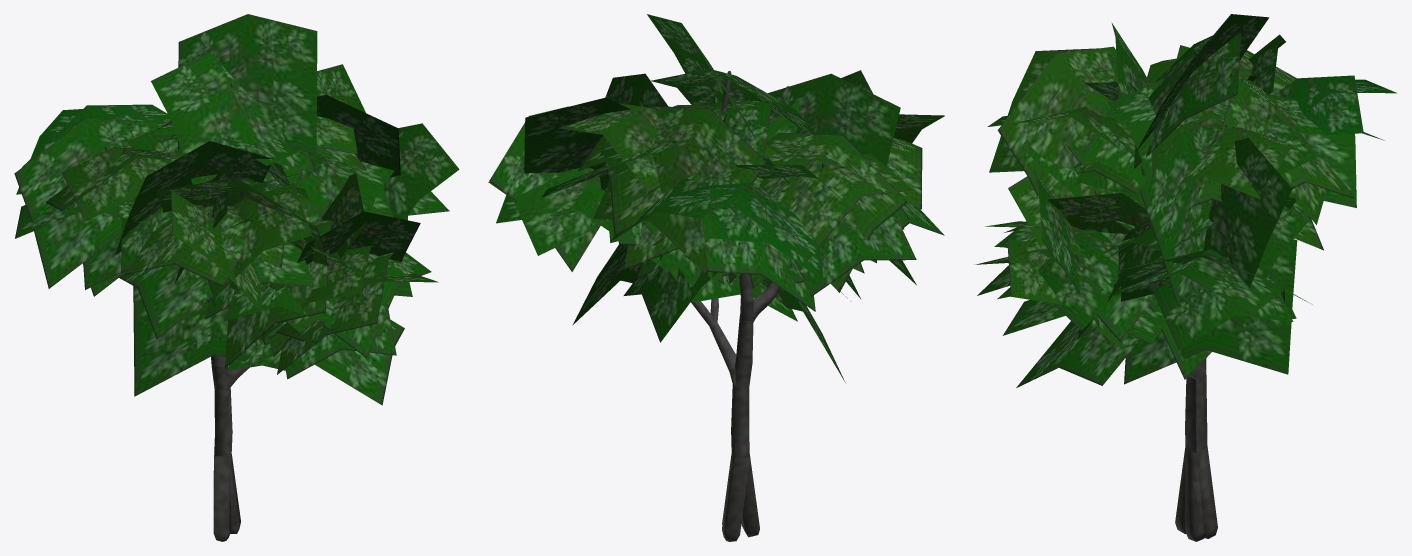
Rendered from Tree4.obj.
3 renders of one model, left to right at view 1: azimuth 30°, elevation 25°; view 2: azimuth 150°, elevation 25°; view 3: azimuth 270°, elevation 25°, orthographic. The views are drawn at different scales.
Visible parts, largest first — view 1: Plum_Tre; view 2: Plum_Tre; view 3: Plum_Tre.
Boxes of the visible parts, x1,y1,x2,y2 form: Plum_Tre: (14,14,459,541); Plum_Tre: (488,14,944,541); Plum_Tre: (974,14,1397,541).
Size of the model in its own units: 15.3 by 17.94 by 12.66.
Materials: 1 (1 with a texture image).
